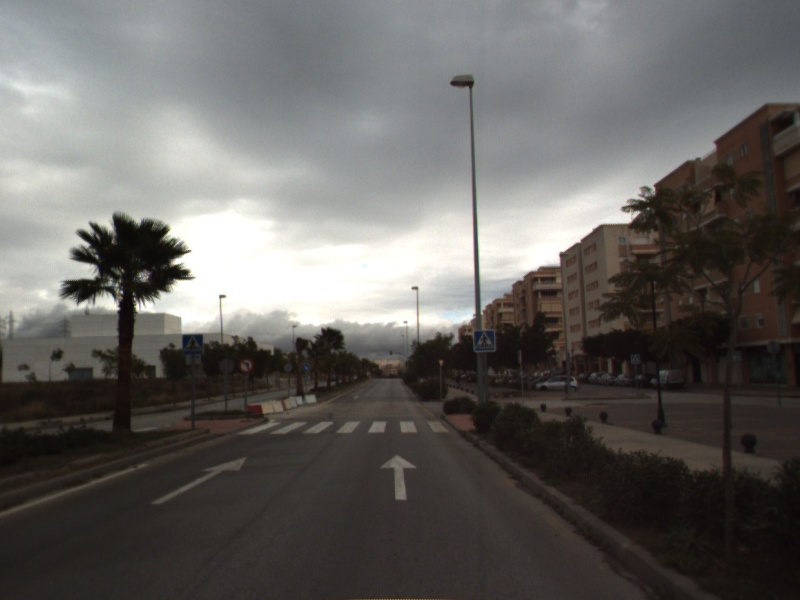STRAIGHT: (148, 454, 249, 506), (378, 452, 419, 502)
